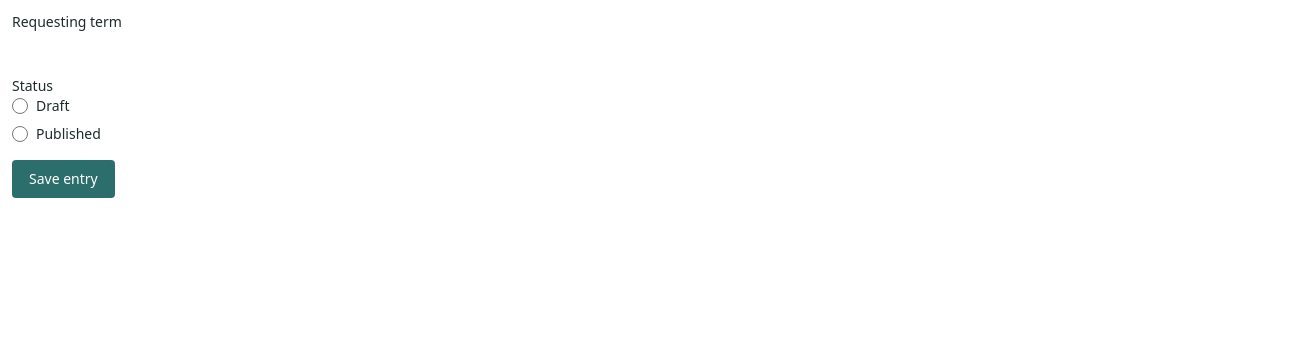
Scenario: Form › shows no summary until a submit fails
expect the heading "There is a problem" is not shown: met
Click the button "Save entry": (63, 179) 12,160 -> 115,198
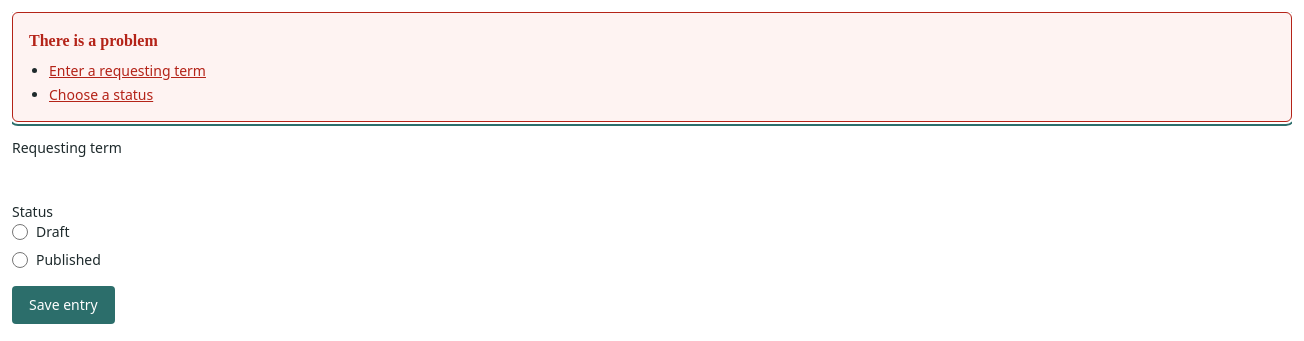
expect the heading "There is a problem" is shown: met, box 29,32 -> 158,49
